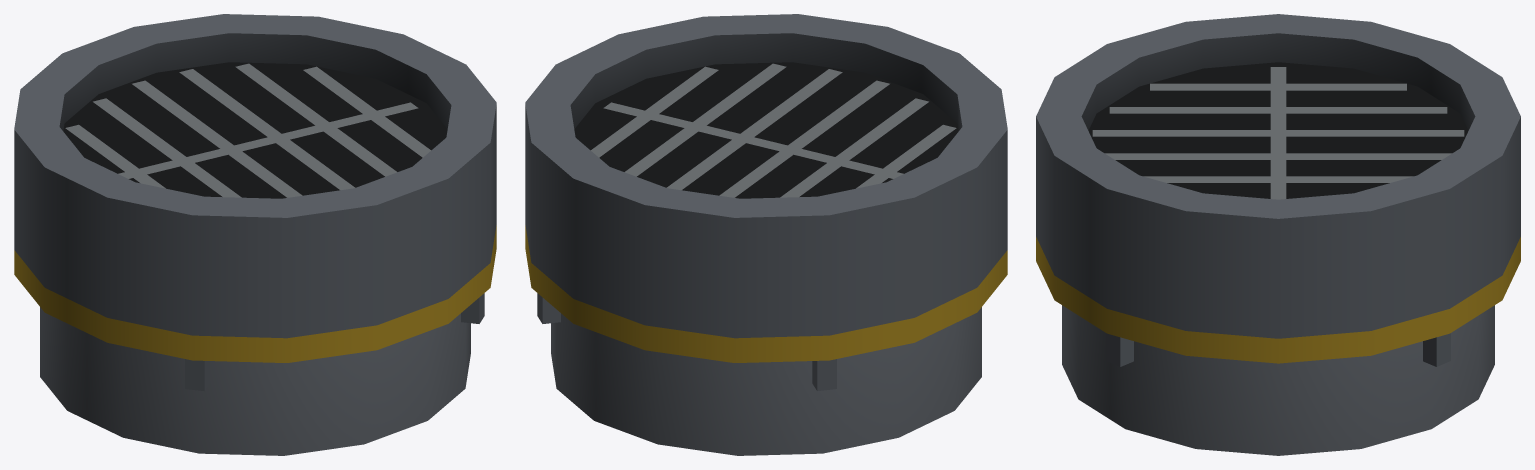
Rendered from pipe.riser.grey.glb.
The picture shows the model from 3 angles, left to right: view 1: azimuth 30°, elevation 25°; view 2: azimuth 150°, elevation 25°; view 3: azimuth 270°, elevation 25°; orthographic projection.
Visible parts, largest first — view 1: pipe_riser_grey; view 2: pipe_riser_grey; view 3: pipe_riser_grey.
Boxes of the visible parts, x1,y1,x2,y2 form: pipe_riser_grey: [14, 14, 496, 455]; pipe_riser_grey: [525, 14, 1007, 455]; pipe_riser_grey: [1036, 14, 1520, 455].
Size of what is drawn, in the model's own units: 2.13 by 1.2 by 2.13.
